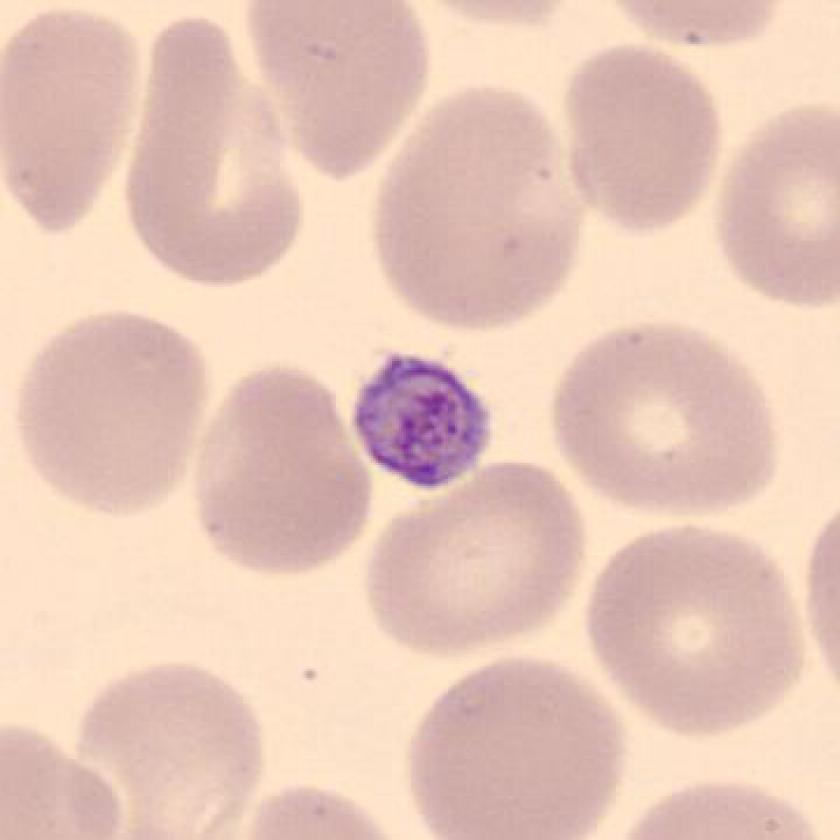platelets: (346, 346, 505, 501)
